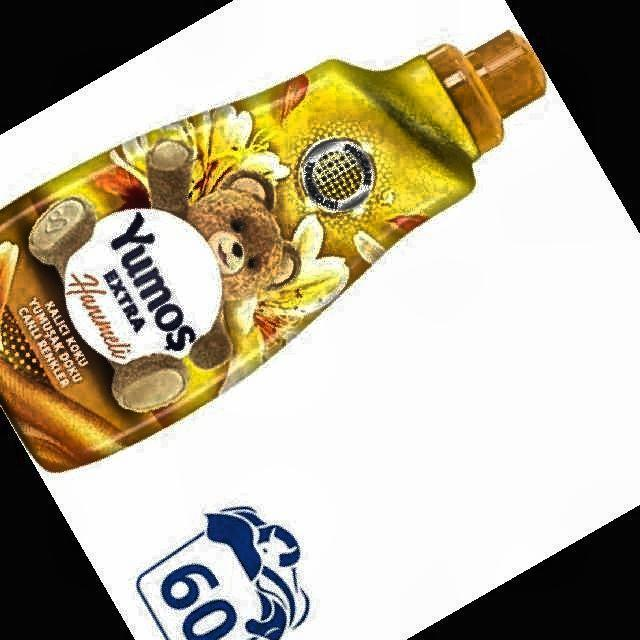plastic: (0, 31, 546, 471)
